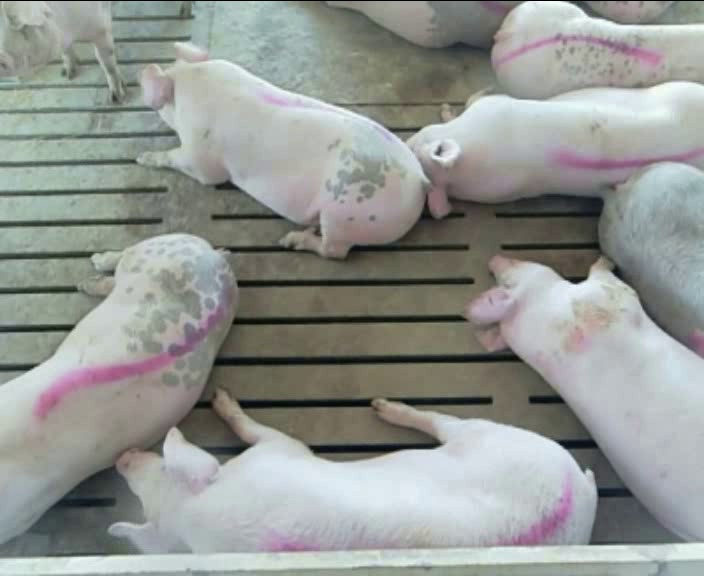pig: (109, 390, 596, 551), (0, 234, 237, 542), (465, 257, 703, 539), (138, 42, 428, 257), (407, 82, 703, 217), (491, 2, 703, 98), (599, 162, 703, 356)
